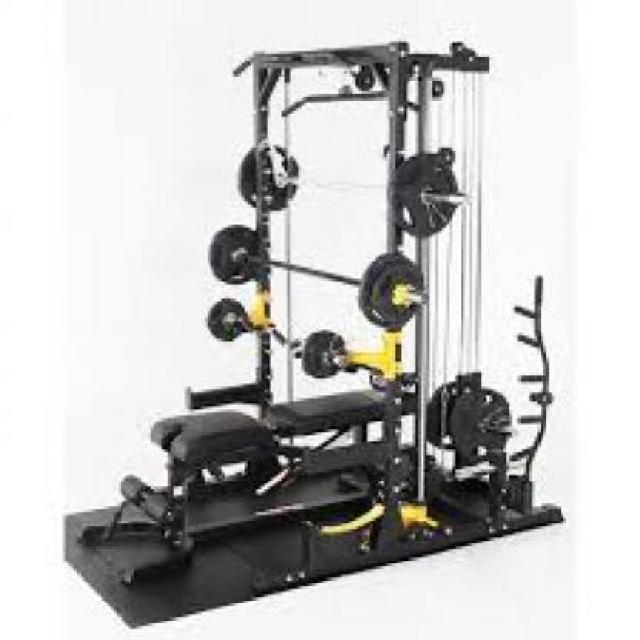smith machine: (82, 37, 566, 603)
